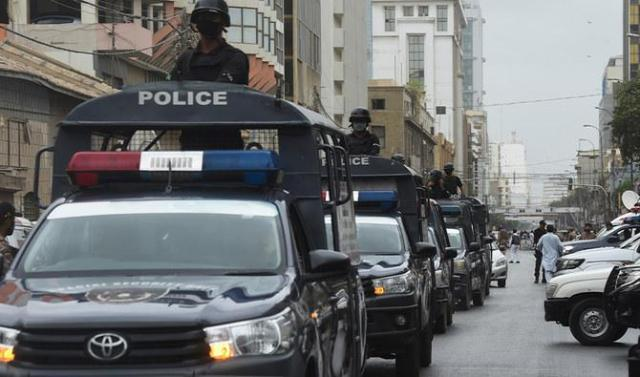police_car: (1, 86, 359, 377)
